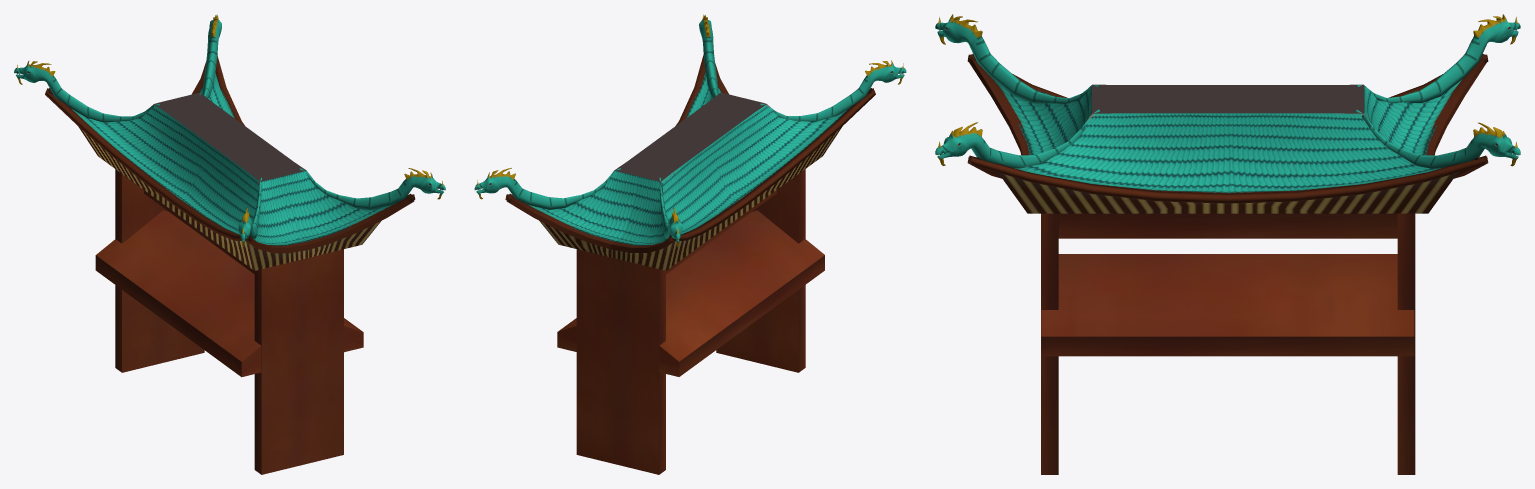
Rendered from Gate.fbx.
3 views of the same model, side by side, from view 1: azimuth 30°, elevation 25°; view 2: azimuth 150°, elevation 25°; view 3: azimuth 270°, elevation 25° (orthographic). The views are drawn at different scales.
Parts seen in each view (by area): view 1: Gate; view 2: Gate; view 3: Gate.
Boxes of the visible parts, <box> form: Gate: <box>14,14,445,474</box>; Gate: <box>474,14,906,474</box>; Gate: <box>935,14,1520,474</box>.
Size of the model in its own units: 13.9 by 19.19 by 26.93.
